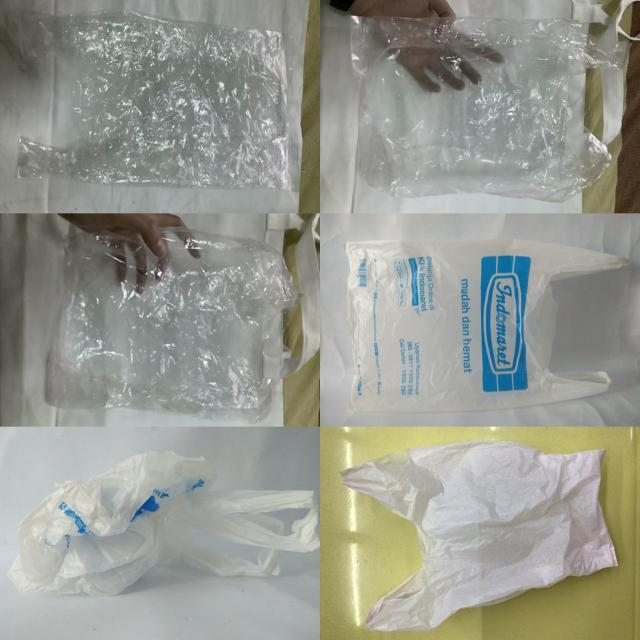Single-layer Plastic: (352, 18, 627, 209), (342, 441, 617, 631), (1, 11, 290, 190), (45, 225, 296, 420), (345, 239, 627, 412), (9, 451, 319, 595)
